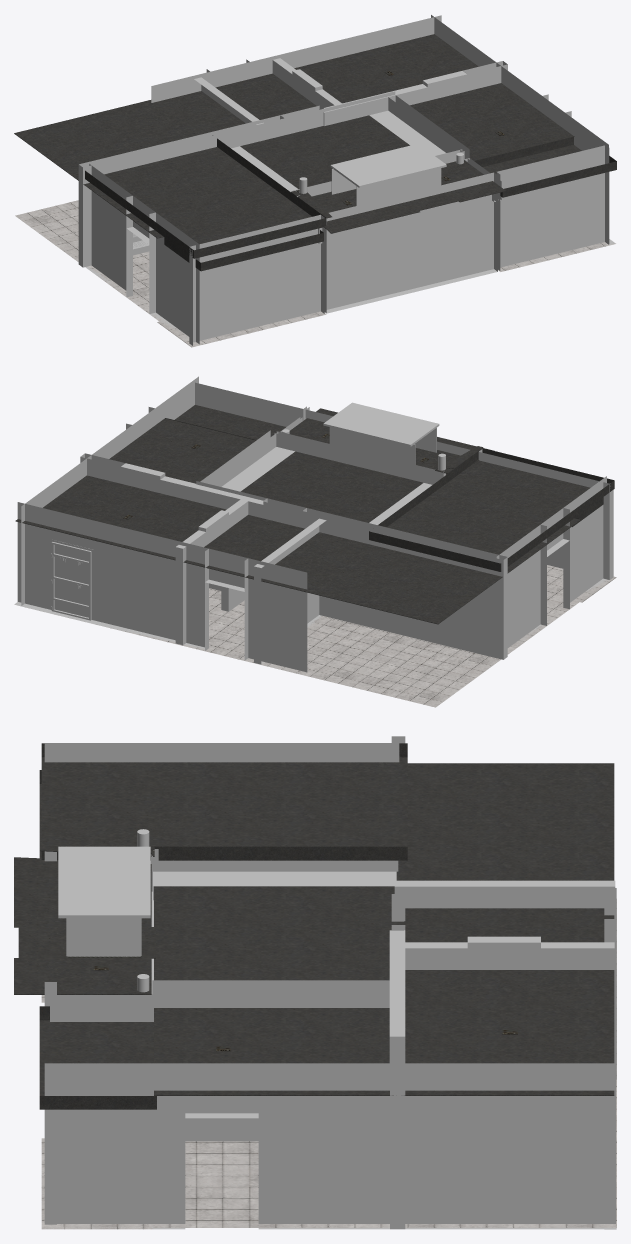
File: room3gw_opt.fbx
3 renders of one model, top to bottom at view 1: azimuth 30°, elevation 25°; view 2: azimuth 150°, elevation 25°; view 3: azimuth 270°, elevation 25°, orthographic. The views are drawn at different scales.
Visible parts, largest first — view 1: Scene_Root.001; view 2: Scene_Root.001; view 3: Scene_Root.001.
Part boxes in pixels (<box>): Scene_Root.001: <box>14,15,616,347</box>; Scene_Root.001: <box>14,376,616,707</box>; Scene_Root.001: <box>14,736,616,1229</box>.
Bounding box in the file's own units: 1496 × 401 × 1144.
